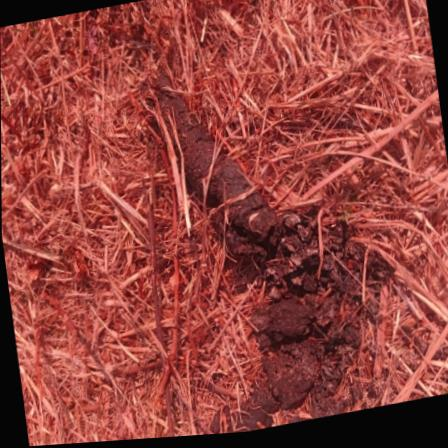dog-poop: (231, 219, 386, 424), (142, 63, 288, 270)
